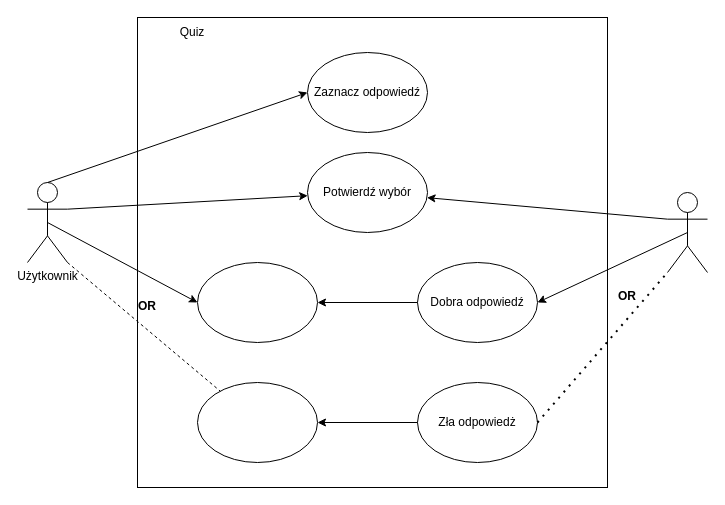
The diagram is 725 pixels wide and 505 high, and some of its shapes have lost their labels. The shapes that lost their labels are listed below. From the top down, each one's centre as x and y in pixels, then its label:
At pixel 687 232: "Server".
At pixel 257 302: "Przejdź dalej".
At pixel 257 422: "Spróbuj ponownie".
